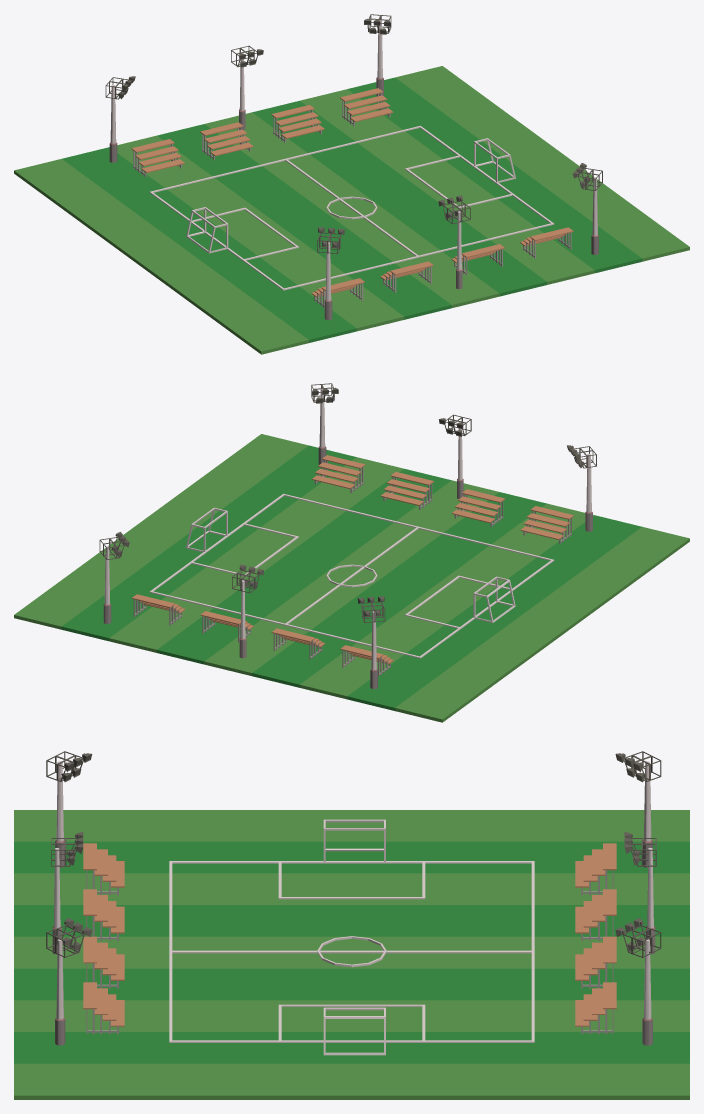
The model's file is SoccerGround.fbx.
3 views of the same model, one above another, from view 1: azimuth 30°, elevation 25°; view 2: azimuth 150°, elevation 25°; view 3: azimuth 270°, elevation 25° (orthographic). The views are drawn at different scales.
Visible parts, largest first — view 1: Ground, Seat08, Seat06, Seat07, Seat05, bong06, bong05, bong04, Bong01, bong03, bong02, Seat02 (+5 smaller); view 2: Ground, Seat04, Seat01, Seat02, Seat03, Bong01, bong02, bong03, bong06, bong04, bong05, Seat05 (+5 smaller); view 3: Ground, bong03, bong04, Seat04, Seat05, Seat06, Seat01, Seat07, Seat08, Seat03, Seat02, bong06 (+5 smaller).
Part boxes in pixels (x1=…): Ground: x1=14, y1=66, x2=689, y2=354; Seat08: x1=131, y1=139, x2=184, y2=177; Seat06: x1=271, y1=105, x2=324, y2=142; Seat07: x1=200, y1=122, x2=253, y2=160; Seat05: x1=340, y1=88, x2=393, y2=126; bong06: x1=317, y1=227, x2=344, y2=320; bong05: x1=438, y1=195, x2=470, y2=289; bong04: x1=572, y1=163, x2=602, y2=254; Bong01: x1=105, y1=76, x2=135, y2=162; bong03: x1=364, y1=14, x2=391, y2=96; bong02: x1=231, y1=45, x2=263, y2=129; Seat02: x1=380, y1=261, x2=433, y2=292; Ground: x1=14, y1=434, x2=689, y2=722; Seat04: x1=312, y1=455, x2=365, y2=493; Seat01: x1=380, y1=472, x2=433, y2=509; Seat02: x1=452, y1=489, x2=505, y2=527; Seat03: x1=520, y1=506, x2=573, y2=543; Bong01: x1=357, y1=596, x2=385, y2=689; bong02: x1=232, y1=564, x2=263, y2=658; bong03: x1=99, y1=532, x2=129, y2=623; bong06: x1=567, y1=445, x2=596, y2=531; bong04: x1=311, y1=383, x2=338, y2=464; bong05: x1=439, y1=414, x2=471, y2=498; Seat05: x1=132, y1=594, x2=185, y2=625; Ground: x1=14, y1=810, x2=689, y2=1099; bong03: x1=615, y1=918, x2=661, y2=1045; bong04: x1=46, y1=918, x2=92, y2=1045; Seat04: x1=83, y1=982, x2=124, y2=1034; Seat05: x1=575, y1=982, x2=616, y2=1034; Seat06: x1=575, y1=936, x2=616, y2=988; Seat01: x1=83, y1=936, x2=124, y2=988; Seat07: x1=575, y1=889, x2=616, y2=940; Seat08: x1=575, y1=843, x2=616, y2=895; Seat03: x1=83, y1=843, x2=124, y2=895; Seat02: x1=83, y1=889, x2=124, y2=940; bong06: x1=46, y1=751, x2=92, y2=867.
Size of the model in its own units: 420 by 420 by 80.36.
